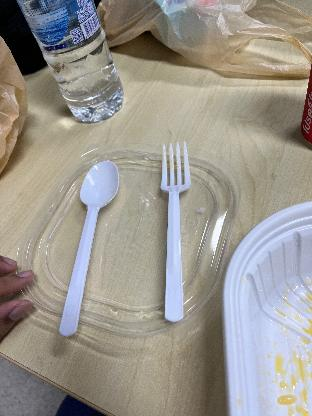Others: (55, 156, 122, 344), (144, 134, 199, 328)
Plastic Bottle: (20, 0, 126, 124)
